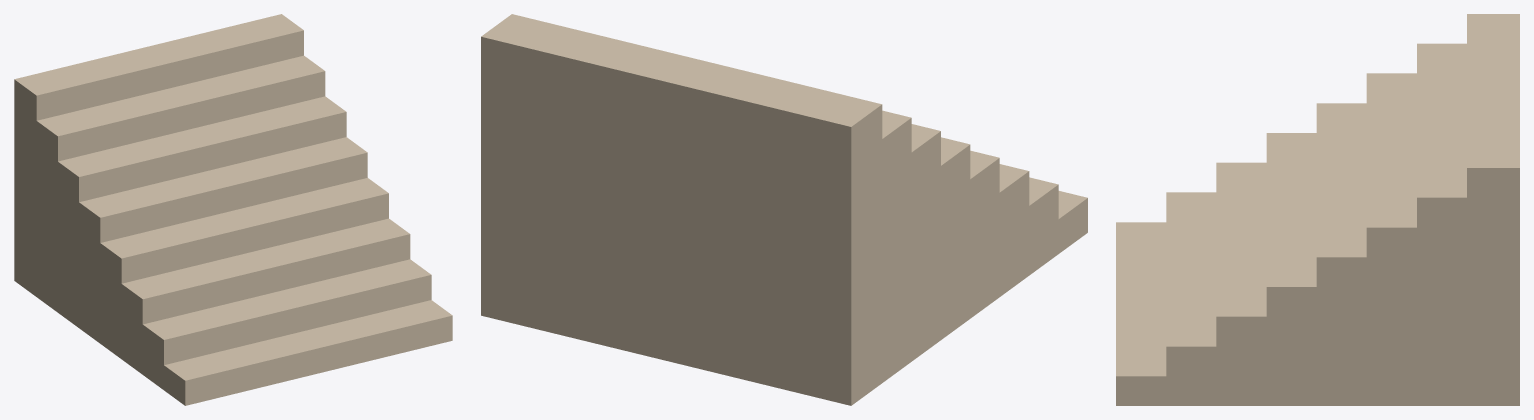
Rendered from bh_waterfront_water_stair_01_lod0.glb.
The picture shows the model from 3 angles, left to right: view 1: azimuth 30°, elevation 25°; view 2: azimuth 150°, elevation 25°; view 3: azimuth 270°, elevation 25°; orthographic projection. The views are drawn at different scales.
Visible parts, largest first — view 1: bh_waterfront_water_stair_01_step_07, bh_waterfront_water_stair_01_step_06, bh_waterfront_water_stair_01_step_05, bh_waterfront_water_stair_01_step_04, bh_waterfront_water_stair_01_step_03, bh_waterfront_water_stair_01_step_02, bh_waterfront_water_stair_01_step_01, bh_waterfront_water_stair_01_step_00; view 2: bh_waterfront_water_stair_01_step_07, bh_waterfront_water_stair_01_step_06, bh_waterfront_water_stair_01_step_05, bh_waterfront_water_stair_01_step_04, bh_waterfront_water_stair_01_step_03, bh_waterfront_water_stair_01_step_02, bh_waterfront_water_stair_01_step_01, bh_waterfront_water_stair_01_step_00; view 3: bh_waterfront_water_stair_01_step_07, bh_waterfront_water_stair_01_step_06, bh_waterfront_water_stair_01_step_05, bh_waterfront_water_stair_01_step_04, bh_waterfront_water_stair_01_step_03, bh_waterfront_water_stair_01_step_02, bh_waterfront_water_stair_01_step_01, bh_waterfront_water_stair_01_step_00.
Boxes of the visible parts, <box> form: bh_waterfront_water_stair_01_step_07: <box>14,14,303,295</box>; bh_waterfront_water_stair_01_step_06: <box>35,55,325,311</box>; bh_waterfront_water_stair_01_step_05: <box>56,96,346,327</box>; bh_waterfront_water_stair_01_step_04: <box>79,137,367,343</box>; bh_waterfront_water_stair_01_step_03: <box>99,178,388,357</box>; bh_waterfront_water_stair_01_step_02: <box>120,218,410,374</box>; bh_waterfront_water_stair_01_step_01: <box>142,259,431,389</box>; bh_waterfront_water_stair_01_step_00: <box>163,300,452,405</box>; bh_waterfront_water_stair_01_step_07: <box>481,14,882,405</box>; bh_waterfront_water_stair_01_step_06: <box>880,110,911,382</box>; bh_waterfront_water_stair_01_step_05: <box>910,124,940,362</box>; bh_waterfront_water_stair_01_step_04: <box>939,137,970,339</box>; bh_waterfront_water_stair_01_step_03: <box>968,150,999,319</box>; bh_waterfront_water_stair_01_step_02: <box>998,164,1029,297</box>; bh_waterfront_water_stair_01_step_01: <box>1029,177,1058,275</box>; bh_waterfront_water_stair_01_step_00: <box>1058,191,1087,253</box>; bh_waterfront_water_stair_01_step_07: <box>1467,14,1519,405</box>; bh_waterfront_water_stair_01_step_06: <box>1417,43,1469,405</box>; bh_waterfront_water_stair_01_step_05: <box>1366,73,1419,405</box>; bh_waterfront_water_stair_01_step_04: <box>1316,103,1369,405</box>; bh_waterfront_water_stair_01_step_03: <box>1266,133,1319,405</box>; bh_waterfront_water_stair_01_step_02: <box>1216,162,1269,405</box>; bh_waterfront_water_stair_01_step_01: <box>1166,192,1218,405</box>; bh_waterfront_water_stair_01_step_00: <box>1116,222,1168,405</box>.
Bounding box in the file's own units: 4 × 2.88 × 4.43.
